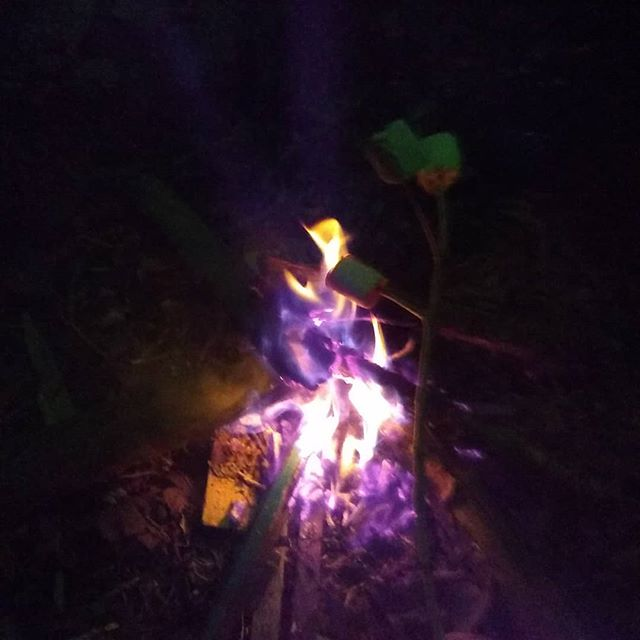fireplace: (56, 125, 541, 640)
